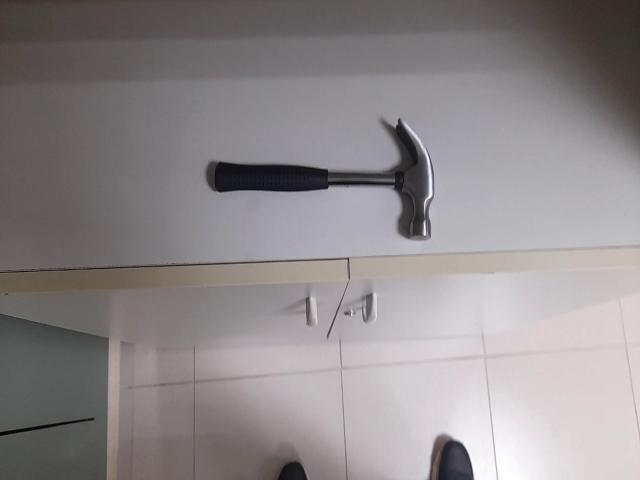Hammer: (214, 118, 434, 240)
